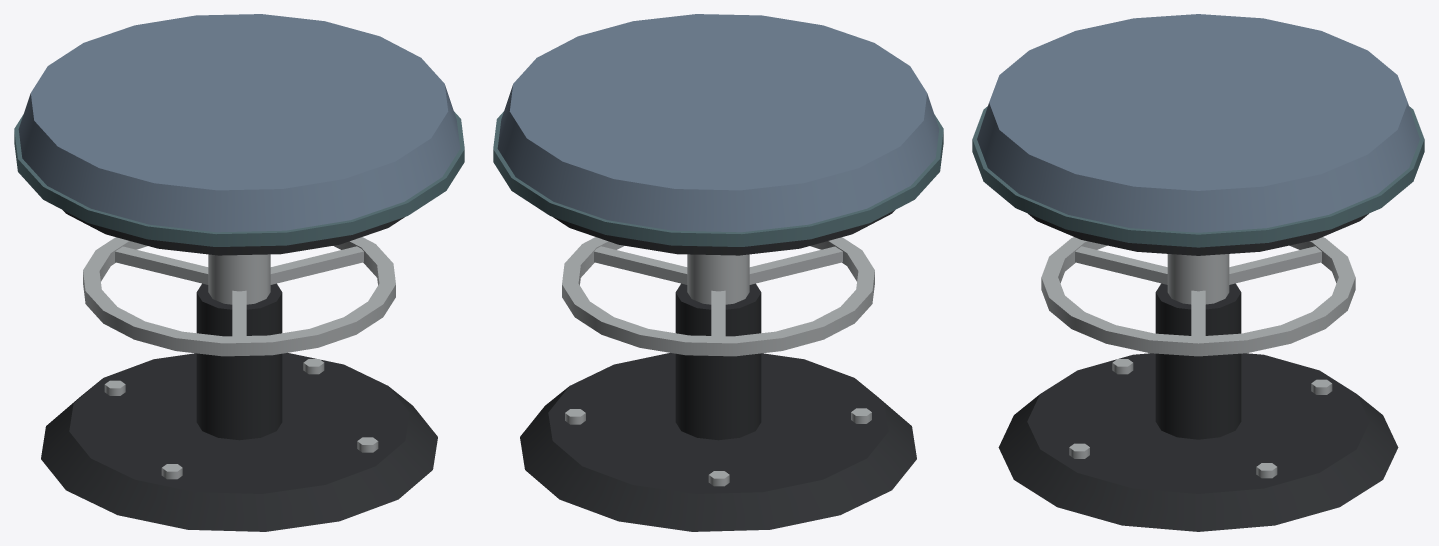
Rendered from astro_stool.fbx.
3 views of the same model, side by side, from view 1: azimuth 30°, elevation 25°; view 2: azimuth 150°, elevation 25°; view 3: azimuth 270°, elevation 25° (orthographic).
Visible parts, largest first — view 1: Stool_Body; view 2: Stool_Body; view 3: Stool_Body.
Part boxes in pixels (x1=…): Stool_Body: x1=14, y1=14, x2=464, y2=531; Stool_Body: x1=493, y1=14, x2=943, y2=531; Stool_Body: x1=972, y1=14, x2=1424, y2=531.
Bounding box in the file's own units: 95 × 80 × 95.
